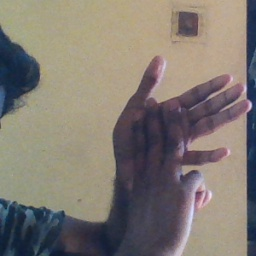M: (105, 57, 249, 245)
